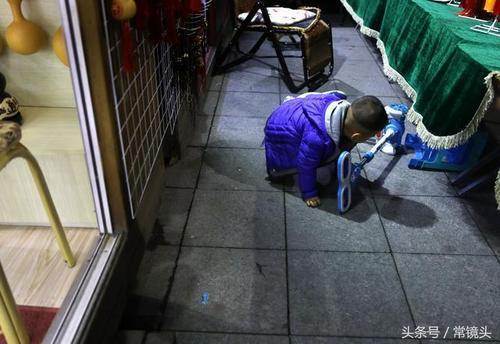Fall-Detected: (255, 82, 388, 214)
